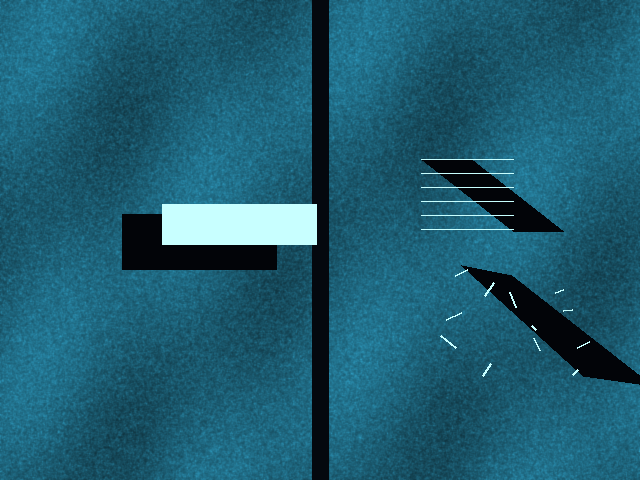Fishing Net: (421, 159, 513, 231)
Ghost Net: (451, 265, 593, 376)
Metal Object: (162, 204, 316, 244)
